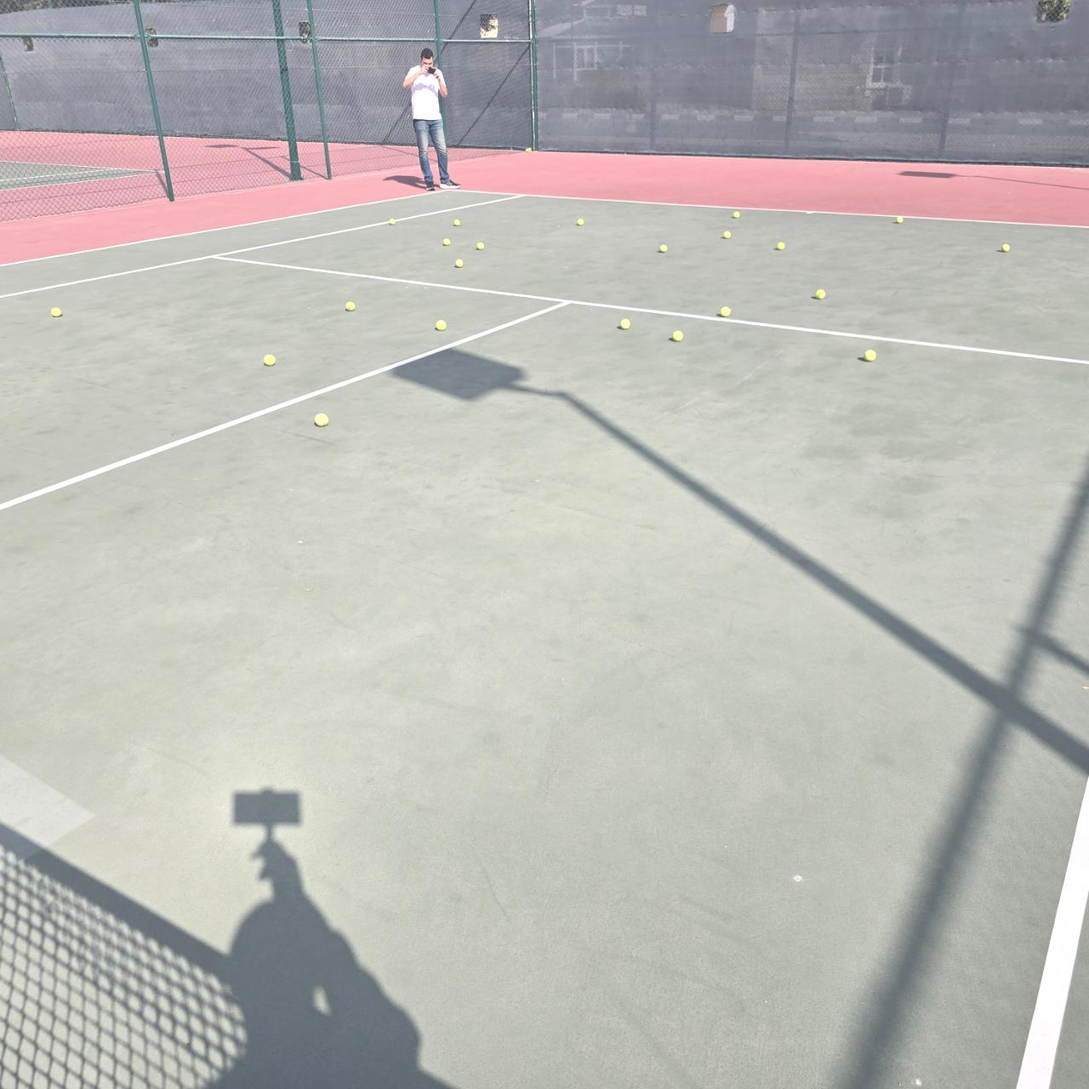tennis-ball: (315, 413, 328, 427), (863, 349, 877, 362), (50, 306, 63, 318), (672, 330, 684, 342), (263, 354, 275, 366), (435, 319, 446, 331), (619, 317, 630, 329), (720, 306, 731, 317), (815, 288, 825, 299), (345, 301, 355, 311), (454, 258, 464, 268), (1001, 243, 1011, 252), (659, 244, 667, 253), (723, 230, 732, 238), (777, 242, 785, 251), (896, 216, 904, 224), (443, 238, 451, 246), (477, 242, 485, 250), (577, 218, 584, 226), (733, 211, 740, 219), (389, 218, 396, 225), (453, 219, 460, 226), (525, 147, 532, 152)
